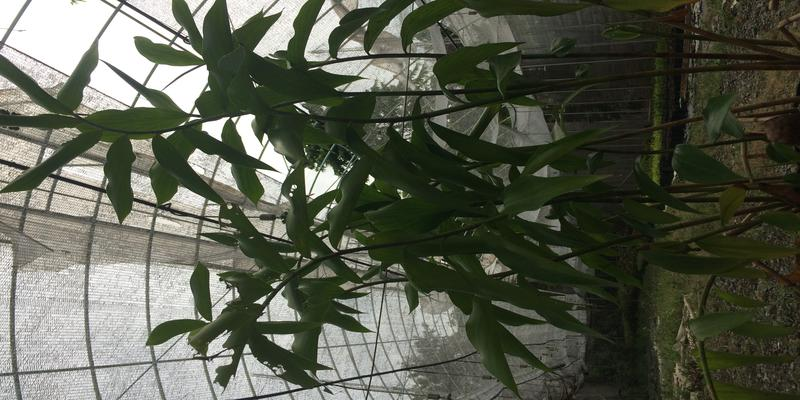Insulin: (187, 28, 785, 277)
